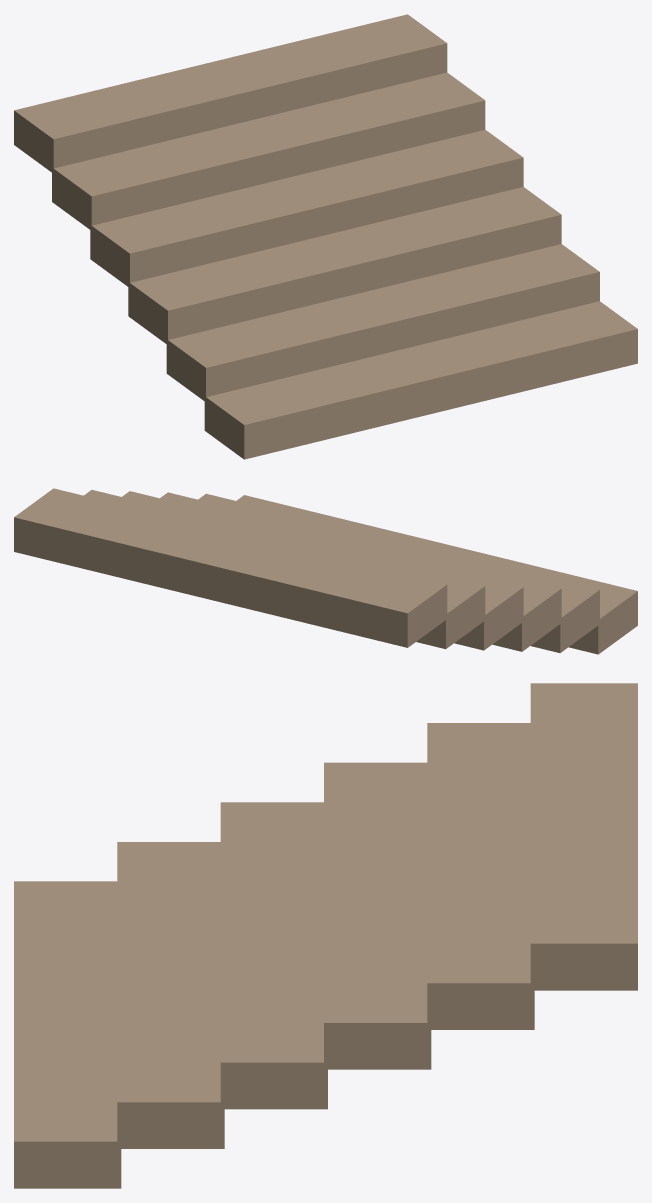
File: escada_madeira_templo.glb
3 views of the same model, one above another, from view 1: azimuth 30°, elevation 25°; view 2: azimuth 150°, elevation 25°; view 3: azimuth 270°, elevation 25° (orthographic). The views are drawn at different scales.
Visible parts, largest first — view 1: escada_madeira_templo_part_000, escada_madeira_templo_part_005, escada_madeira_templo_part_001, escada_madeira_templo_part_004, escada_madeira_templo_part_003, escada_madeira_templo_part_002; view 2: escada_madeira_templo_part_005, escada_madeira_templo_part_001, escada_madeira_templo_part_002, escada_madeira_templo_part_003, escada_madeira_templo_part_004, escada_madeira_templo_part_000; view 3: escada_madeira_templo_part_005, escada_madeira_templo_part_000, escada_madeira_templo_part_003, escada_madeira_templo_part_002, escada_madeira_templo_part_001, escada_madeira_templo_part_004.
Boxes of the visible parts, left/top/right/bottom form: escada_madeira_templo_part_000: left=204, top=301, right=637, bottom=459; escada_madeira_templo_part_005: left=14, top=14, right=447, bottom=172; escada_madeira_templo_part_001: left=166, top=244, right=599, bottom=401; escada_madeira_templo_part_004: left=52, top=72, right=485, bottom=230; escada_madeira_templo_part_003: left=90, top=129, right=523, bottom=287; escada_madeira_templo_part_002: left=128, top=187, right=561, bottom=343; escada_madeira_templo_part_005: left=14, top=488, right=447, bottom=647; escada_madeira_templo_part_001: left=198, top=493, right=599, bottom=652; escada_madeira_templo_part_002: left=160, top=492, right=561, bottom=651; escada_madeira_templo_part_003: left=122, top=491, right=523, bottom=650; escada_madeira_templo_part_004: left=84, top=490, right=485, bottom=649; escada_madeira_templo_part_000: left=236, top=495, right=637, bottom=654; escada_madeira_templo_part_005: left=530, top=683, right=637, bottom=990; escada_madeira_templo_part_000: left=14, top=881, right=121, bottom=1188; escada_madeira_templo_part_003: left=324, top=762, right=431, bottom=1069; escada_madeira_templo_part_002: left=220, top=802, right=327, bottom=1109; escada_madeira_templo_part_001: left=117, top=842, right=224, bottom=1148; escada_madeira_templo_part_004: left=427, top=723, right=534, bottom=1029.
Bounding box in the file's own units: 3.1 × 1.36 × 3.14.
